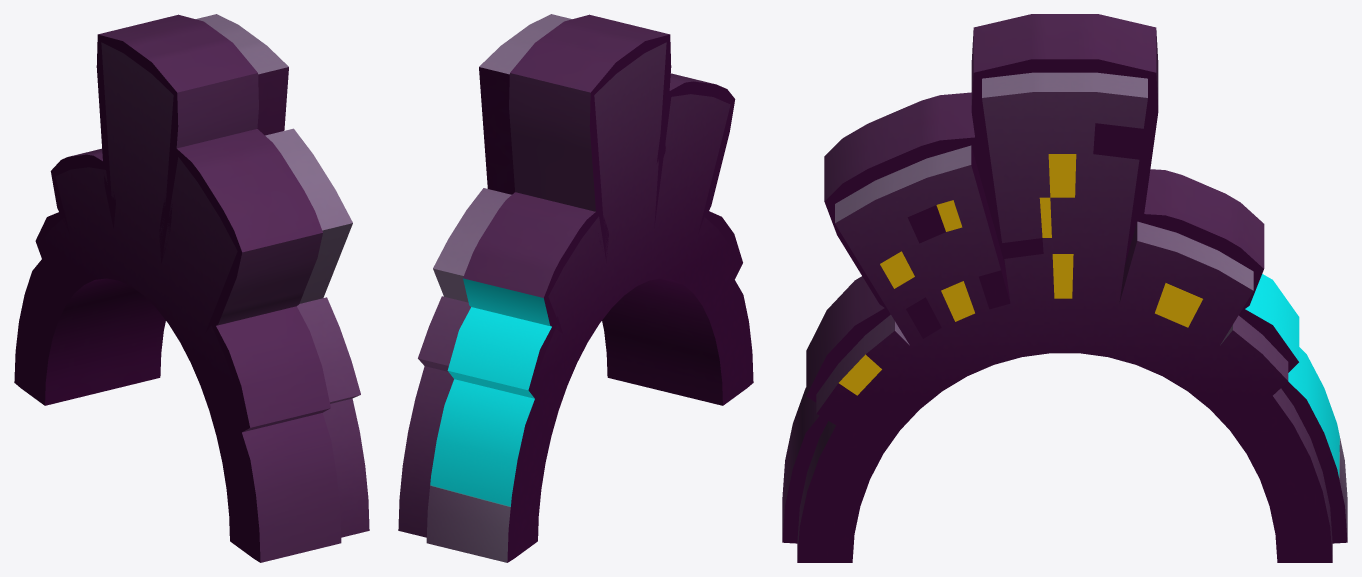
The model's file is R3-TOPGATE.fbx.
The picture shows the model from 3 angles, left to right: view 1: azimuth 30°, elevation 25°; view 2: azimuth 150°, elevation 25°; view 3: azimuth 270°, elevation 25°; orthographic projection. The views are drawn at different scales.
Parts seen in each view (by area): view 1: pCube1; view 2: pCube1; view 3: pCube1.
Part boxes in pixels (box(x1,y1,x2,y2)): pCube1: box(14, 14, 369, 562); pCube1: box(398, 14, 753, 562); pCube1: box(782, 14, 1347, 562).
Bounding box in the file's own units: 43.49 × 152 × 161.
